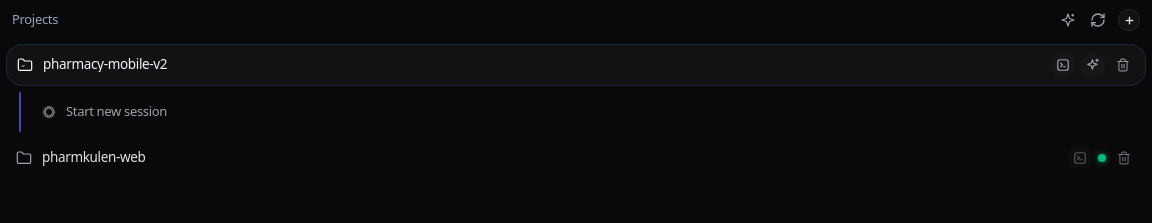
Scenario: ProjectsSidebarNav › handles creating a new thread when clicking 'New thread'
Expected: the text "Start new session" is shown, x1=66 y1=102 x2=167 y2=122
Click the button "Start new session" at (117, 111), box x1=18 y1=96 x2=1146 y2=128
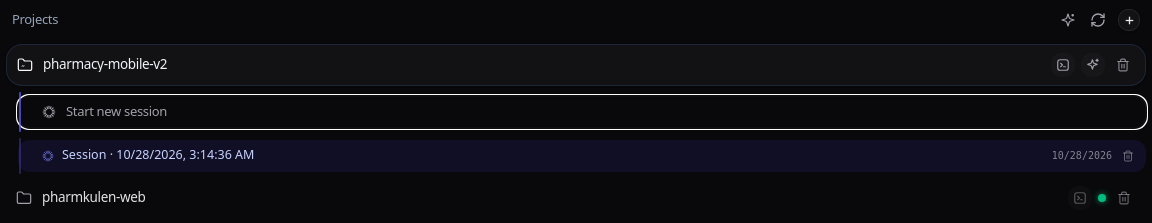
Now the text "Session · 10/28/2026, 3:14:36 AM" is shown, box x1=62 y1=146 x2=254 y2=165
